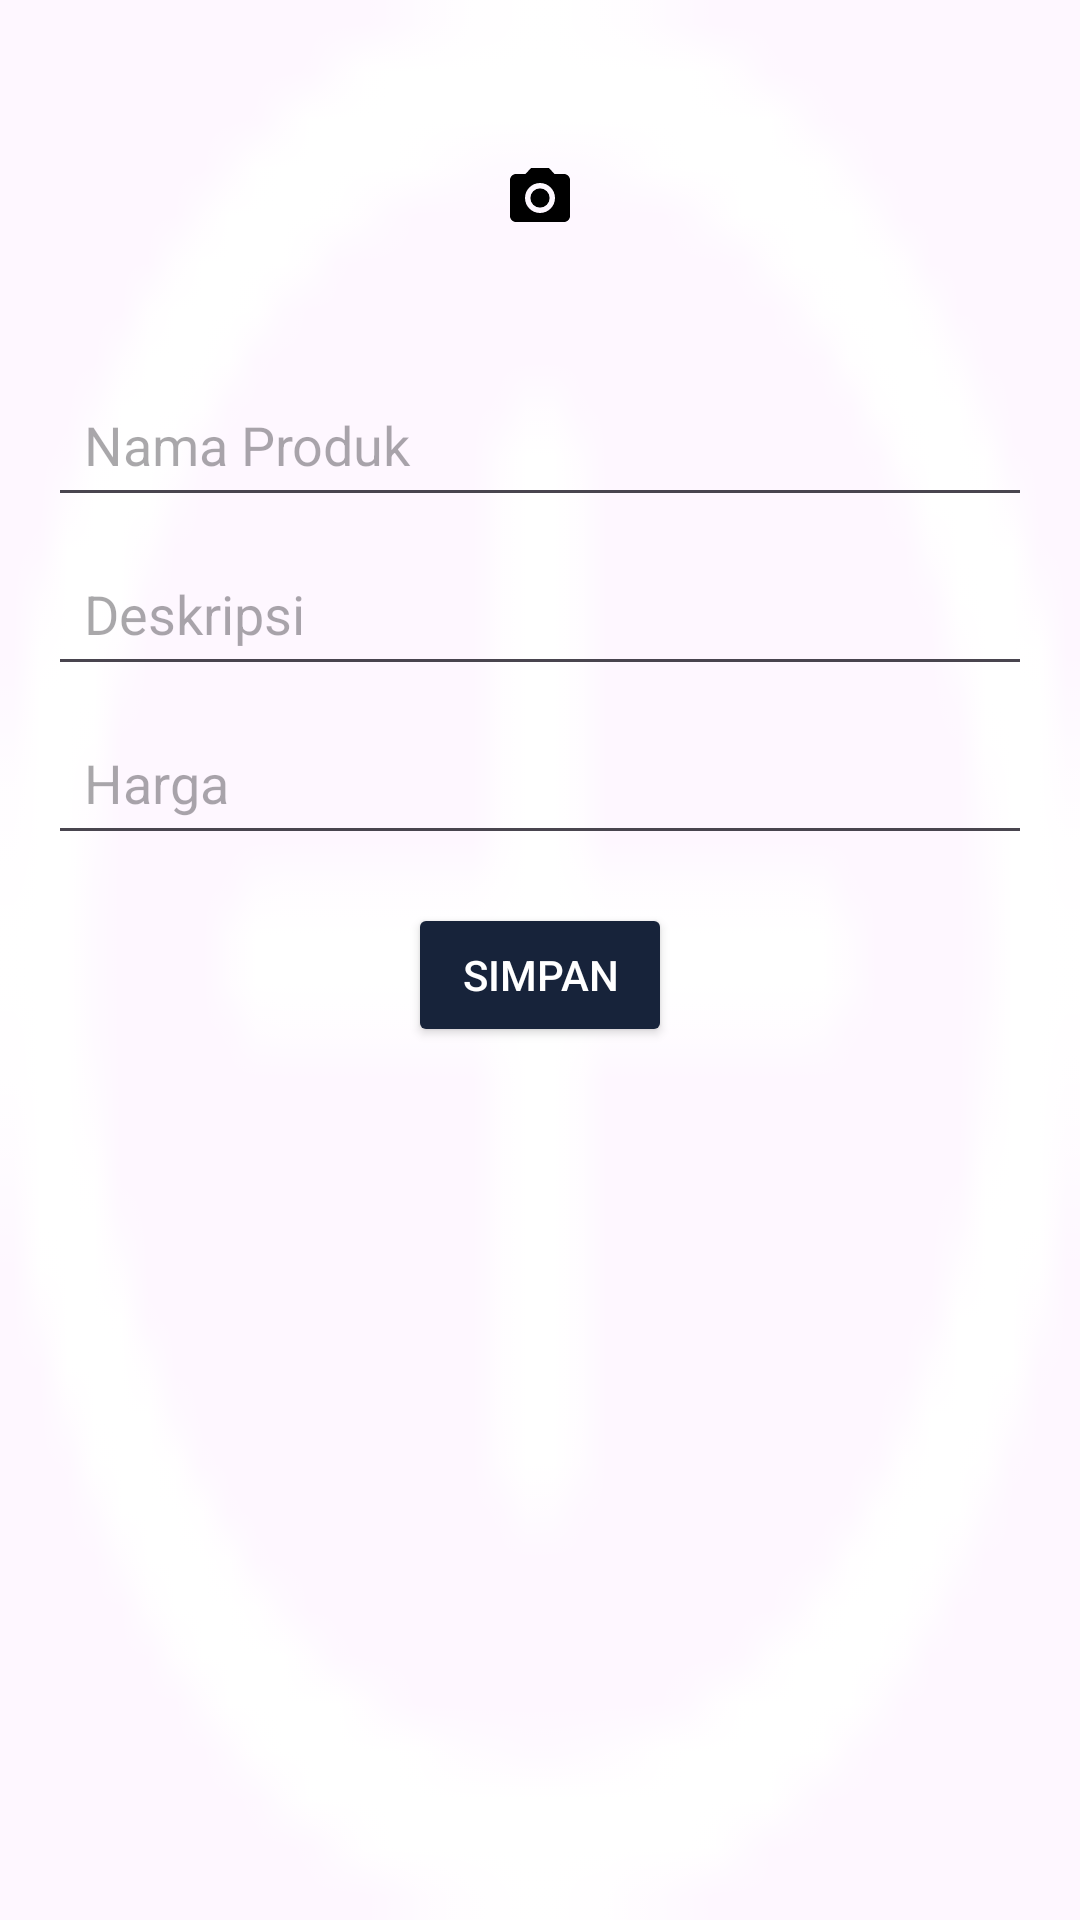

Icon click points for this 1080px×1920px phone screenshot, format [x,y]:
camera: [540,195]
